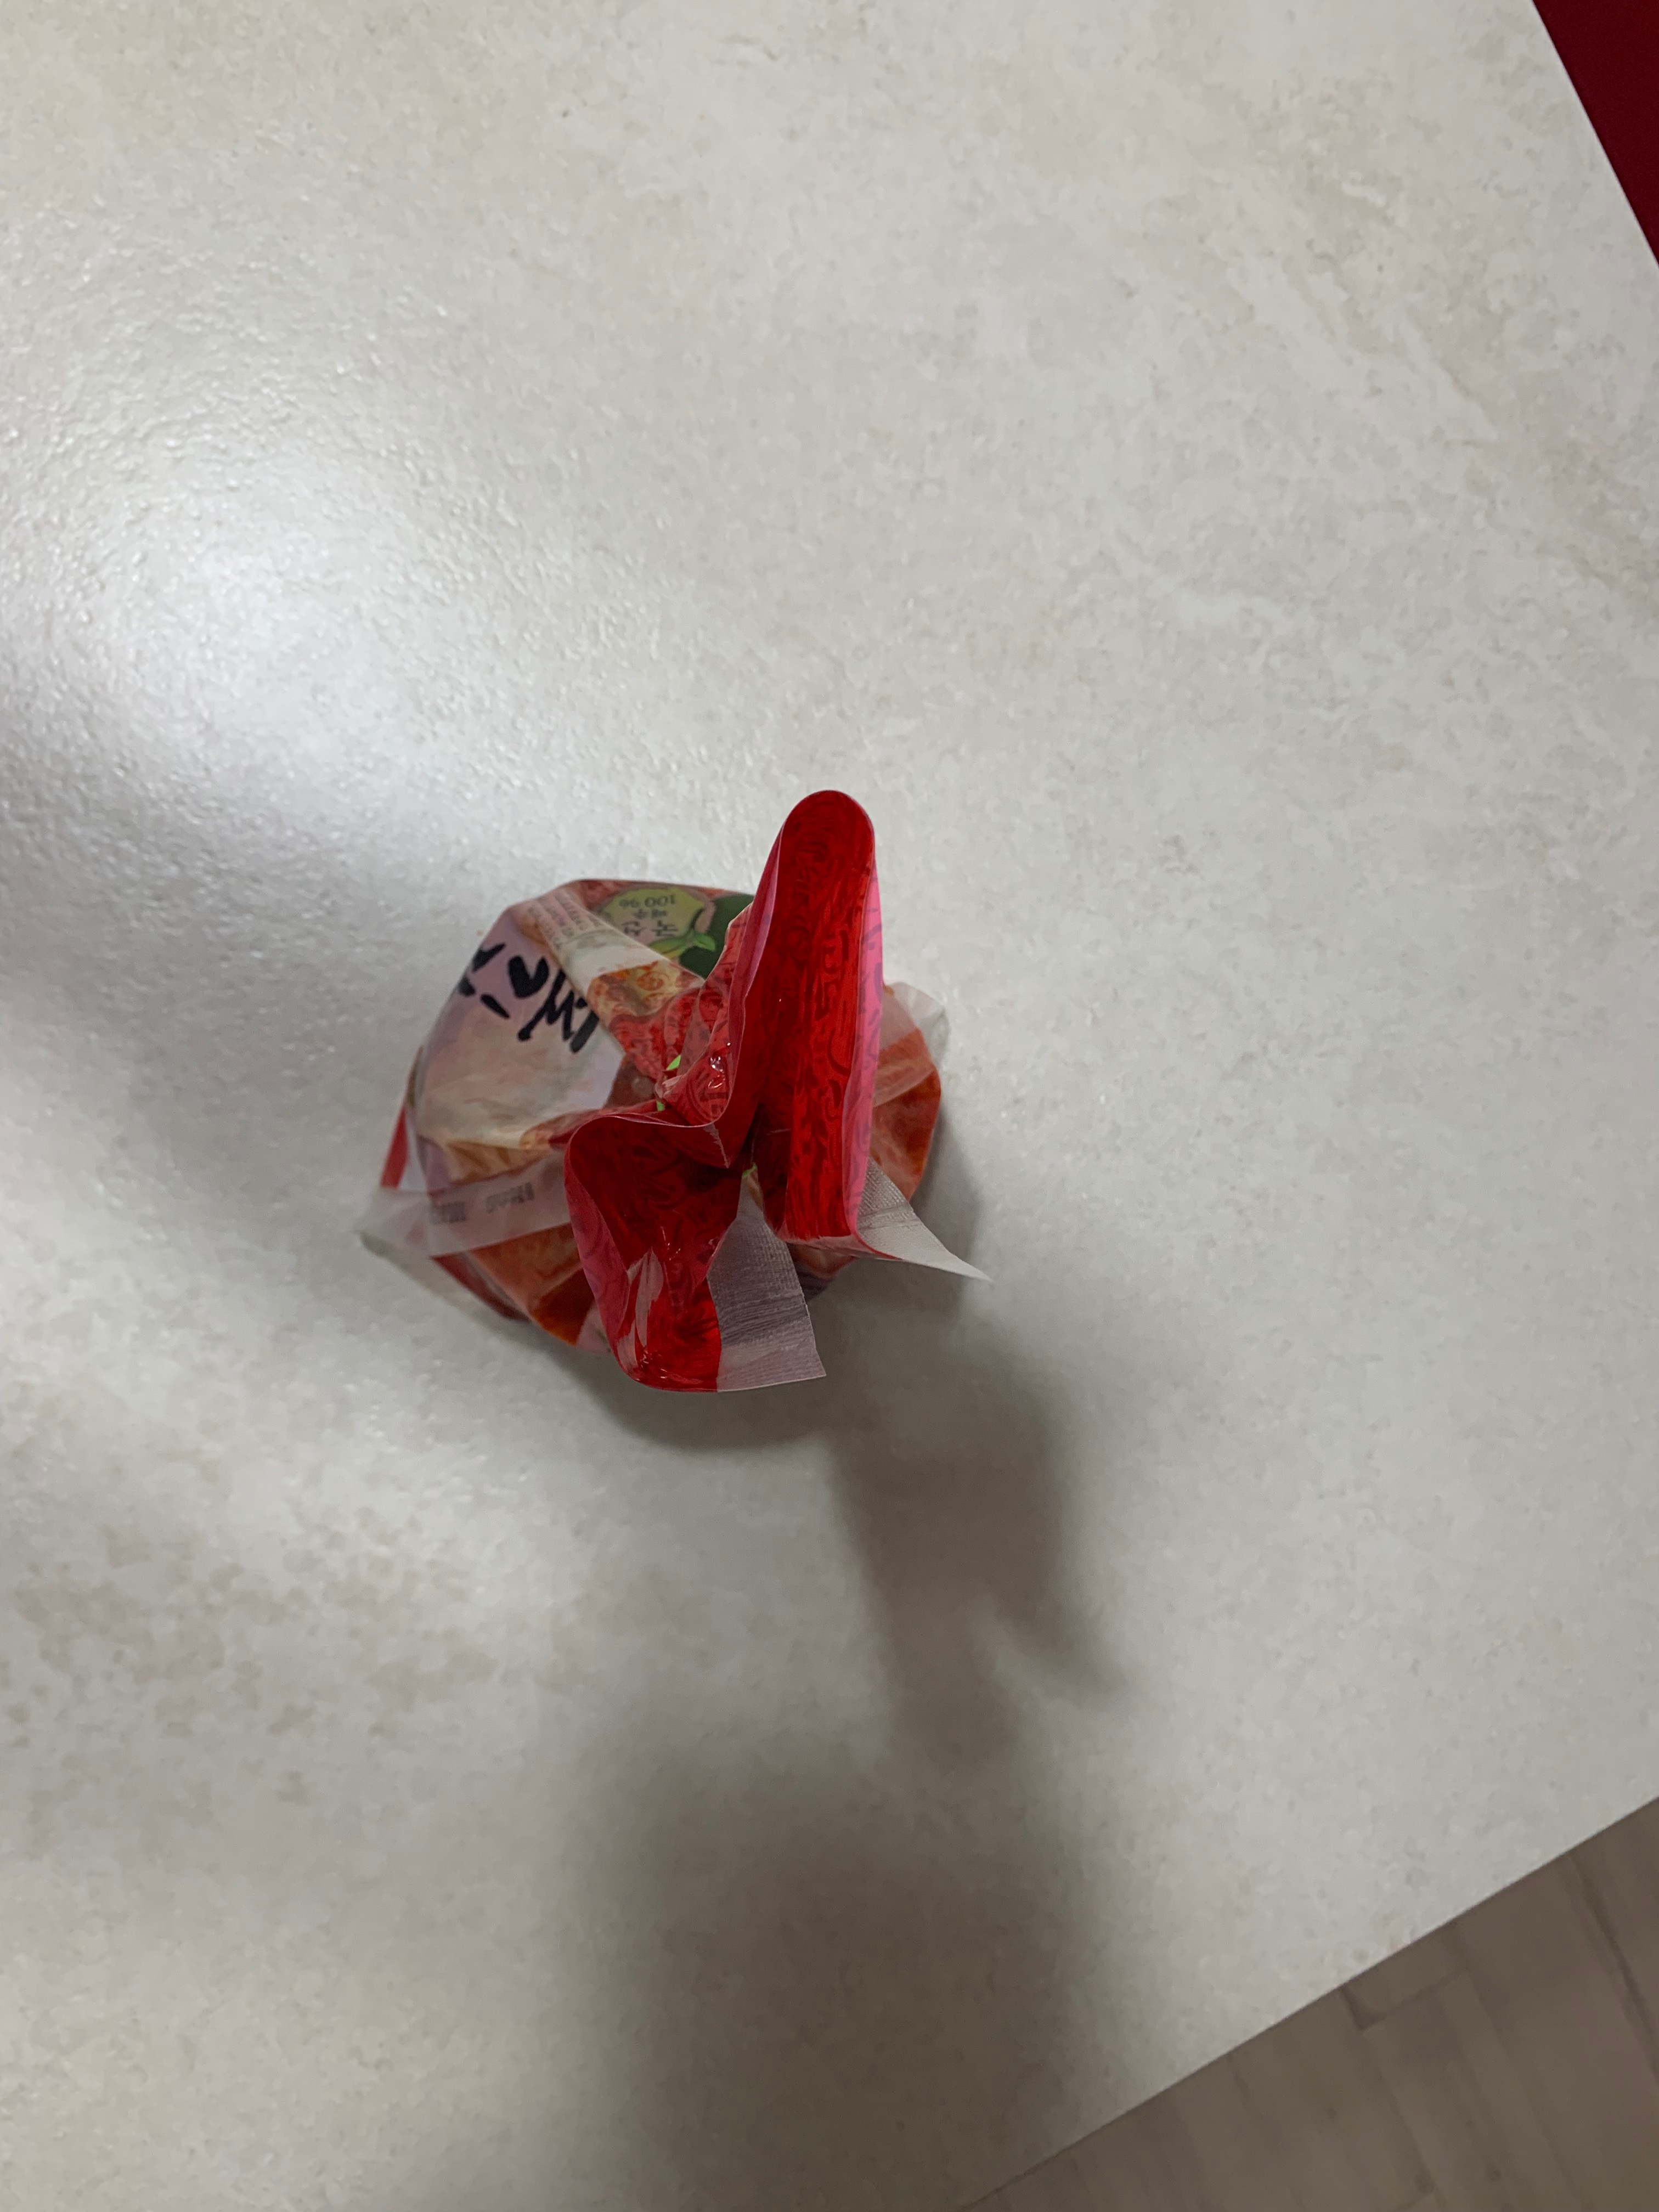kimchi: (376, 791, 953, 1402)
